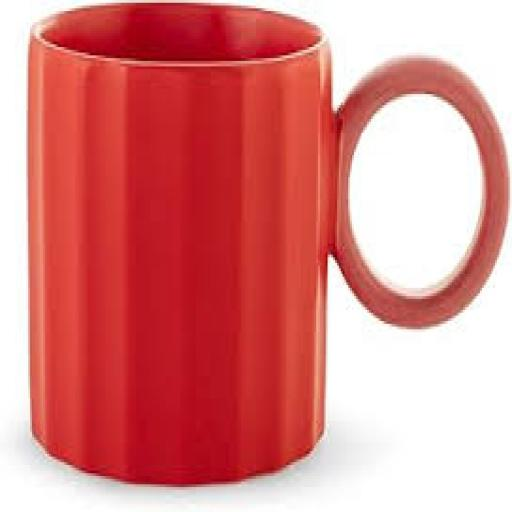red mug: (28, 6, 506, 482)
